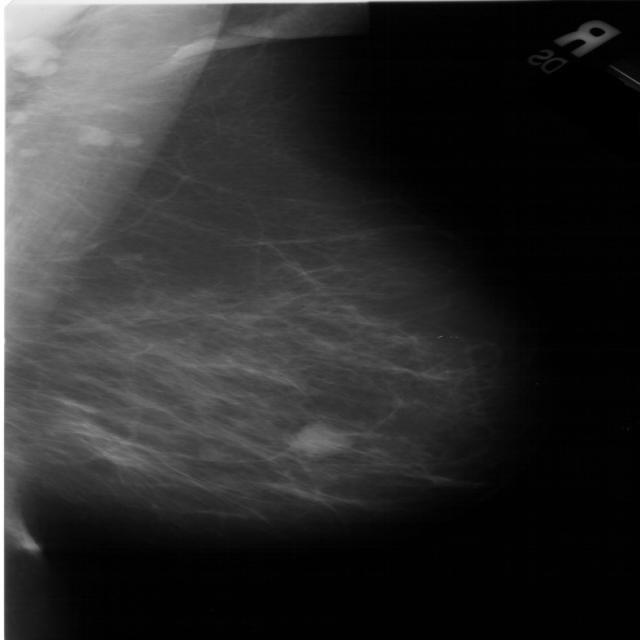tumour: (283, 422, 349, 458)
